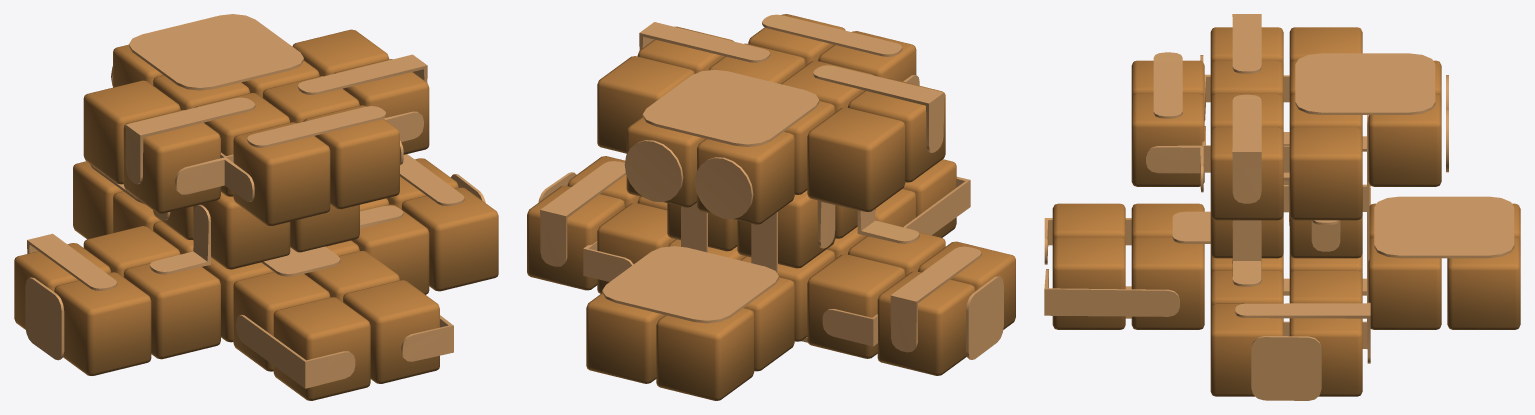
The model's file is level_143.fbx.
3 renders of one model, left to right at view 1: azimuth 30°, elevation 25°; view 2: azimuth 150°, elevation 25°; view 3: azimuth 270°, elevation 25°, orthographic. The views are drawn at different scales.
Visible parts, largest first — view 1: Link, Cube_L1_8.006, Cube_L1_8.025, Cube_L1_8.005, Cube_L1_8.002, Cube_L1_8.019, Cube_L1_8.022, Cube_L1_8.027, Cube_L1_8.013, Cube_L1_8.047, Cube_L1_8.007, Cube_L1_8.018 (+31 smaller); view 2: Link, Link_22, Cube_L1_8.047, Cube_L1_8.020, Cube_L1_8.039, Cube_L1_8.035, Cube_L1_8.023, Cube_L1_8.051, Cube_L1_8.031, Cube_L1_8.038, Link_16, Cube_L1_8.037 (+33 smaller); view 3: Link_22, Link, Cube_L1_8.051, Cube_L1_8.023, Cube_L1_8.033, Cube_L1_8.029, Cube_L1_8.021, Cube_L1_8.022, Cube_L1_8.017, Cube_L1_8.027, Link_18, Cube_L1_8.005 (+28 smaller).
Boxes of the visible parts, x1=… form: Link: x1=129, y1=14, x2=303, y2=90; Cube_L1_8.006: x1=54, y1=272, x2=151, y2=375; Cube_L1_8.025: x1=233, y1=122, x2=330, y2=226; Cube_L1_8.005: x1=401, y1=187, x2=498, y2=291; Cube_L1_8.002: x1=123, y1=263, x2=220, y2=359; Cube_L1_8.019: x1=273, y1=297, x2=370, y2=400; Cube_L1_8.022: x1=343, y1=280, x2=439, y2=383; Cube_L1_8.027: x1=303, y1=105, x2=399, y2=209; Cube_L1_8.013: x1=123, y1=110, x2=220, y2=213; Cube_L1_8.047: x1=83, y1=80, x2=180, y2=184; Cube_L1_8.007: x1=193, y1=192, x2=290, y2=269; Cube_L1_8.018: x1=233, y1=272, x2=330, y2=371; Link: x1=642, y1=69, x2=819, y2=146; Link_22: x1=602, y1=246, x2=778, y2=323; Cube_L1_8.047: x1=807, y1=107, x2=905, y2=211; Cube_L1_8.020: x1=656, y1=308, x2=754, y2=400; Cube_L1_8.039: x1=877, y1=271, x2=975, y2=375; Cube_L1_8.035: x1=807, y1=254, x2=905, y2=358; Cube_L1_8.023: x1=586, y1=293, x2=664, y2=383; Cube_L1_8.051: x1=597, y1=56, x2=694, y2=153; Cube_L1_8.031: x1=697, y1=131, x2=794, y2=224; Cube_L1_8.038: x1=527, y1=185, x2=624, y2=290; Link_16: x1=890, y1=246, x2=981, y2=352; Cube_L1_8.037: x1=597, y1=203, x2=675, y2=293; Link_22: x1=1374, y1=196, x2=1514, y2=258; Link: x1=1295, y1=53, x2=1435, y2=114; Cube_L1_8.051: x1=1289, y1=127, x2=1362, y2=220; Cube_L1_8.023: x1=1447, y1=237, x2=1520, y2=329; Cube_L1_8.033: x1=1368, y1=94, x2=1441, y2=186; Cube_L1_8.029: x1=1368, y1=237, x2=1441, y2=329; Cube_L1_8.021: x1=1131, y1=237, x2=1204, y2=329; Cube_L1_8.022: x1=1052, y1=237, x2=1125, y2=329; Cube_L1_8.017: x1=1210, y1=127, x2=1283, y2=220; Cube_L1_8.027: x1=1131, y1=94, x2=1204, y2=186; Link_18: x1=1251, y1=336, x2=1321, y2=400; Cube_L1_8.005: x1=1210, y1=303, x2=1283, y2=396.
Size of the model in its own units: 13.77 by 6.96 by 13.51.
